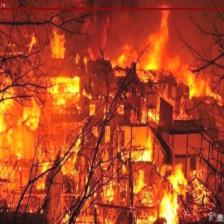fire: (0, 7, 224, 224)
